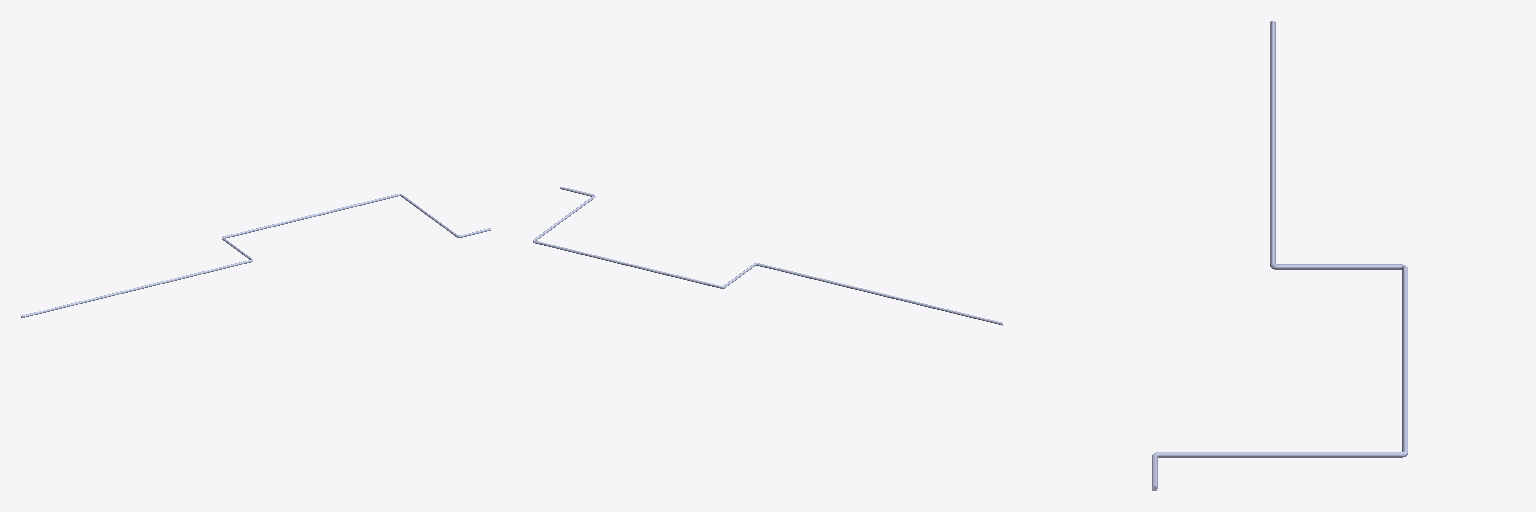
robot.urdf — pipe:
<robot
  name="pipe">
  <link
    name="base_link">
    <inertial>
      <origin
        xyz="10.945 -1.3483E-19 -0.69719"
        rpy="0 0 0" />
      <mass
        value="201.03" />
      <inertia
        ixx="347.73"
        ixy="1.7205E-16"
        ixz="243.15"
        iyy="6737.2"
        iyz="1.2402E-16"
        izz="6389.7" />
    </inertial>
    <visual>
      <origin
        xyz="0 0 0"
        rpy="0 0 0" />
      <geometry>
        <mesh
          filename="package://pipe/meshes/base_link.STL" />
      </geometry>
      <material
        name="">
        <color
          rgba="0.79216 0.81961 0.93333 1" />
      </material>
    </visual>
    <collision>
      <origin
        xyz="0 0 0"
        rpy="0 0 0" />
      <geometry>
        <mesh
          filename="package://pipe/meshes/base_link.STL" />
      </geometry>
    </collision>
  </link>
</robot>

--- Facts derived from the render (not from the file) ---
Views: 3 orthographic renders of the robot side by side, from view 1: azimuth 30°, elevation 25°; view 2: azimuth 150°, elevation 25°; view 3: azimuth 270°, elevation 25°.
Model pipe with 1 links and 0 joints (none), rooted at base_link, posed every joint at zero.
Visible links, largest first — view 1: base_link; view 2: base_link; view 3: base_link.
Boxes of the visible links, x1,y1,x2,y2 form: base_link: (21, 194, 490, 317); base_link: (533, 187, 1002, 325); base_link: (1152, 21, 1407, 490).
Size in the robot's own frame: 19.08 by 4.44 by 0.1 metres.
Meshes: 1 distinct files referenced, 1 mesh visuals loaded (1 binary STL).
